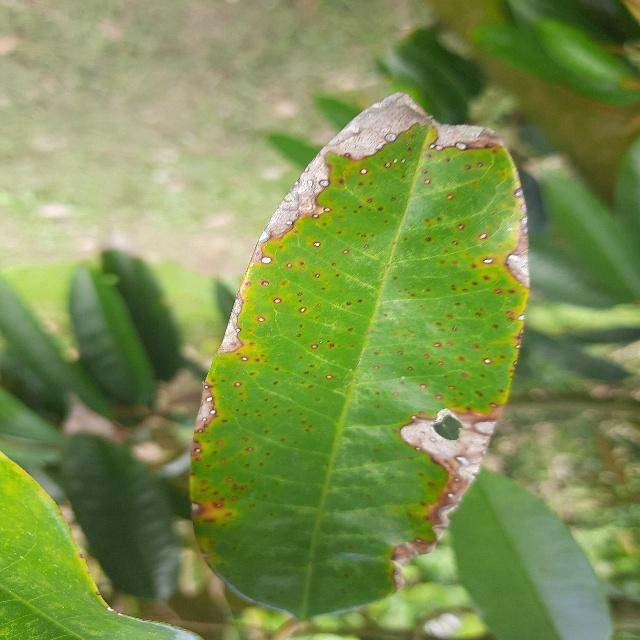Leaf Spot: (179, 85, 535, 627)
